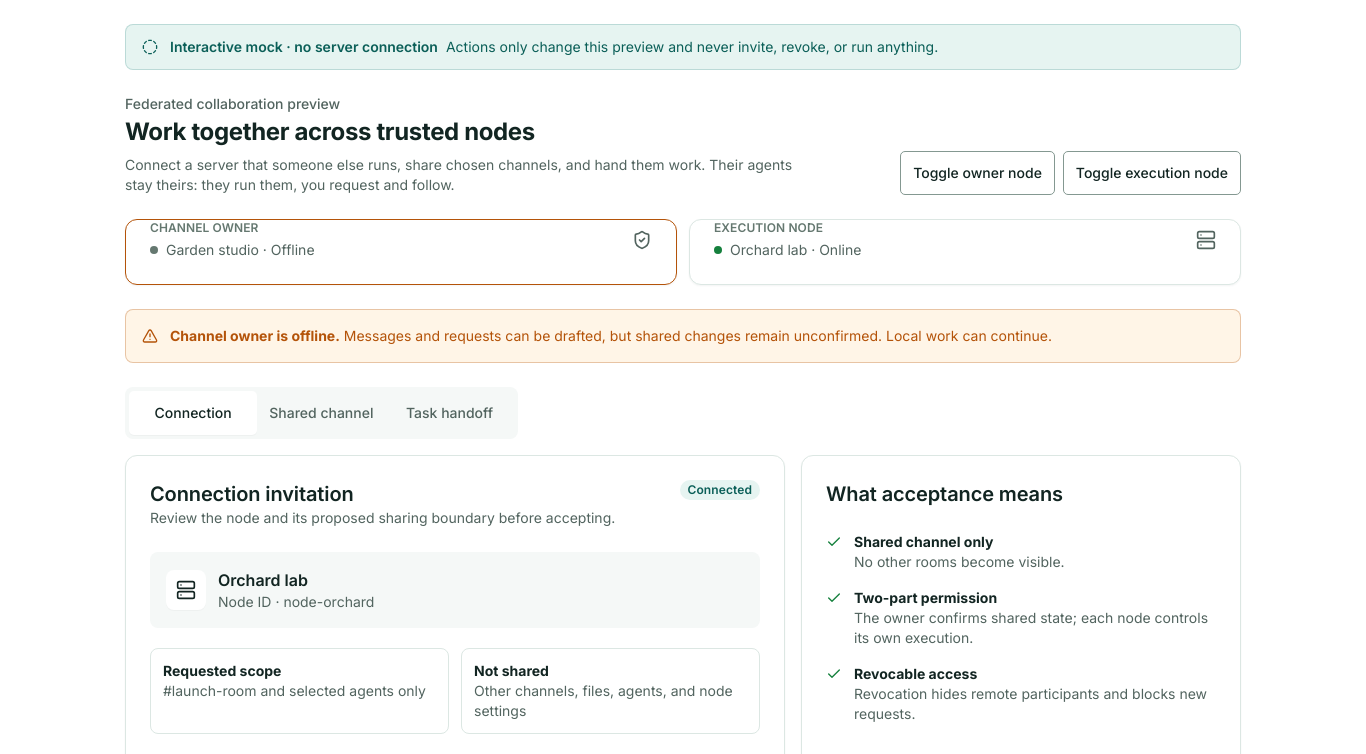
Test case: FederationWorkspace mock UI › distinguishes channel-owner downtime from execution-node downtime
The width and height of the screenshot is (1366, 754).
Check: the message that starts with "Channel owner is offline." is shown, box x1=170 y1=327 x2=340 y2=344
Check: the message that starts with "Channel owner is offline." shows "shared changes remain unconfirmed", box x1=344 y1=327 x2=1052 y2=344
Step 1. Click the button "Toggle owner node" → (977, 173), box x1=900 y1=151 x2=1055 y2=195
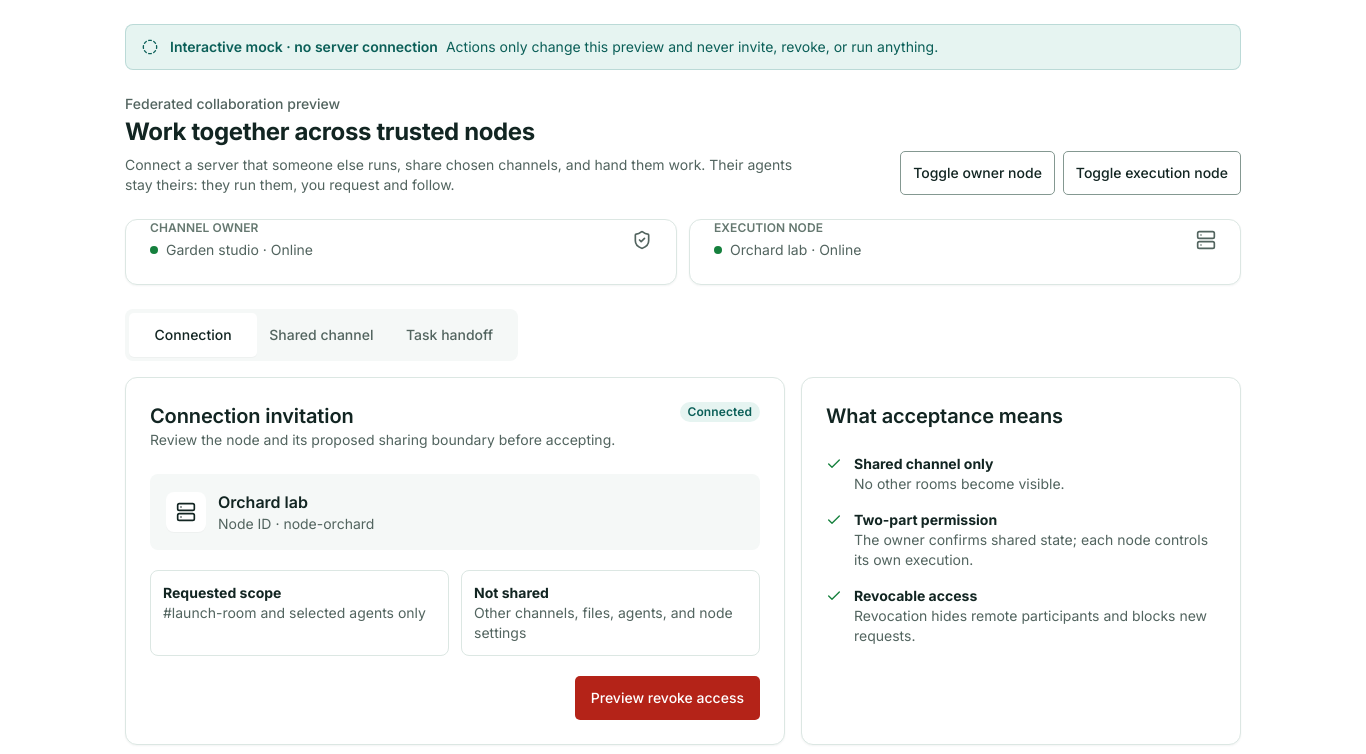
Step 2. Click the button "Toggle execution node" → (1152, 173), box x1=1063 y1=151 x2=1241 y2=195
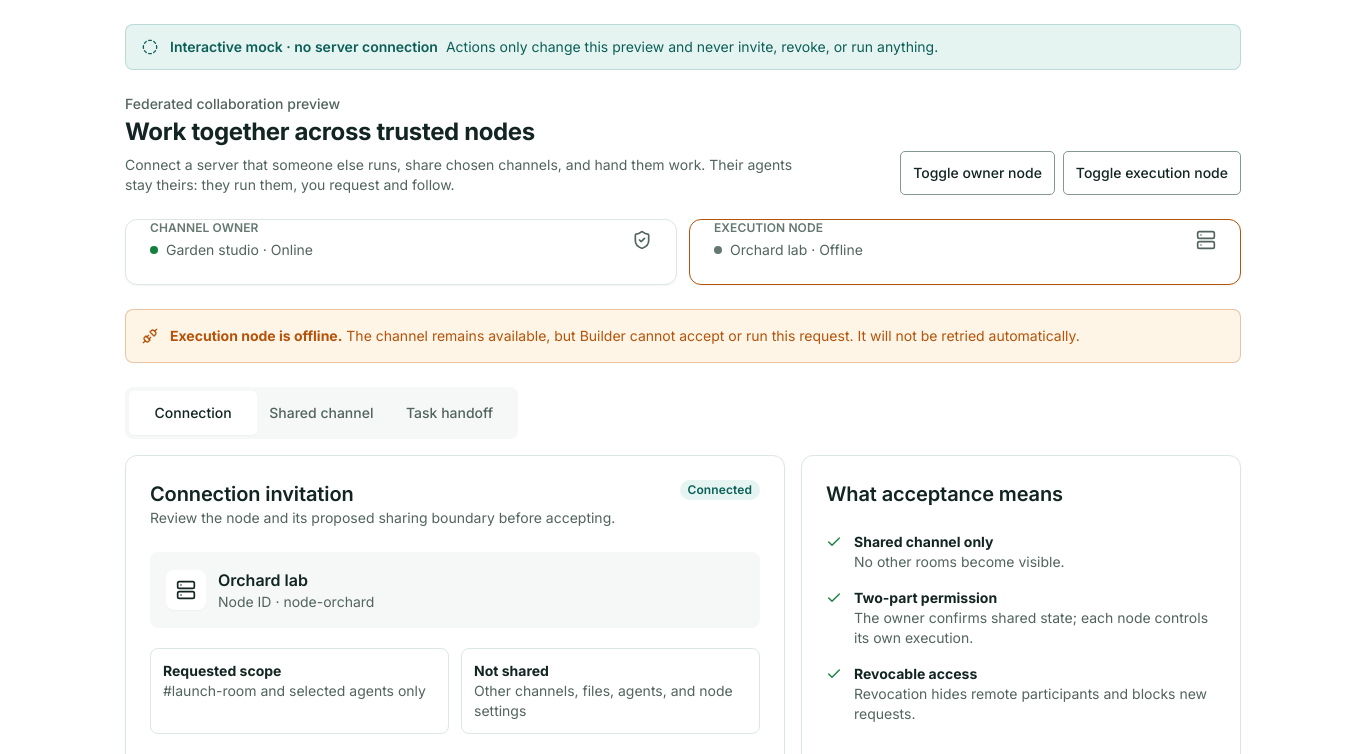
Check: the message that starts with "Execution node is offline." is shown, box x1=170 y1=327 x2=342 y2=344
Check: the message that starts with "Execution node is offline." shows "will not be retried automatically", box x1=346 y1=327 x2=1080 y2=344
